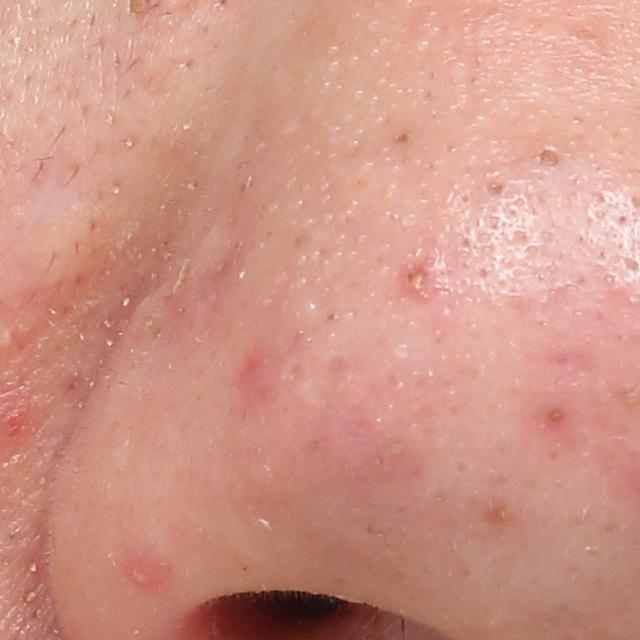comedo: (532, 142, 564, 172), (392, 129, 413, 145)
hypertrophic_scar: (9, 170, 153, 291)
papule: (123, 555, 161, 590), (538, 400, 572, 430)
pustule: (394, 250, 438, 303)
